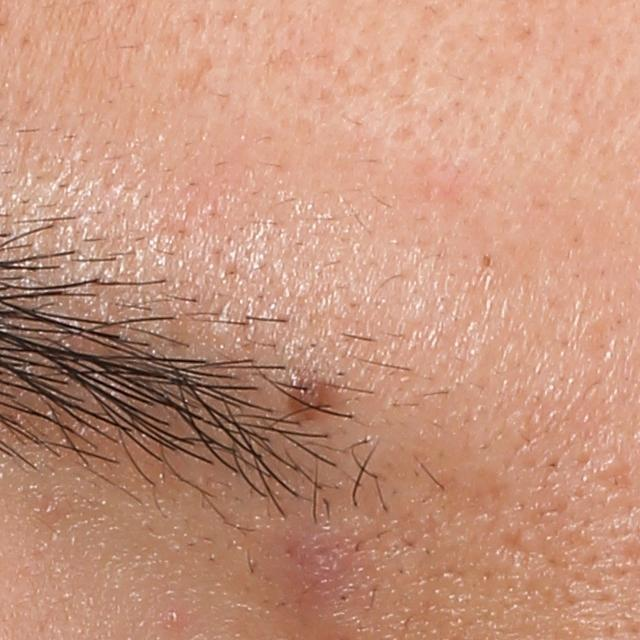nevus: (286, 376, 328, 422)
